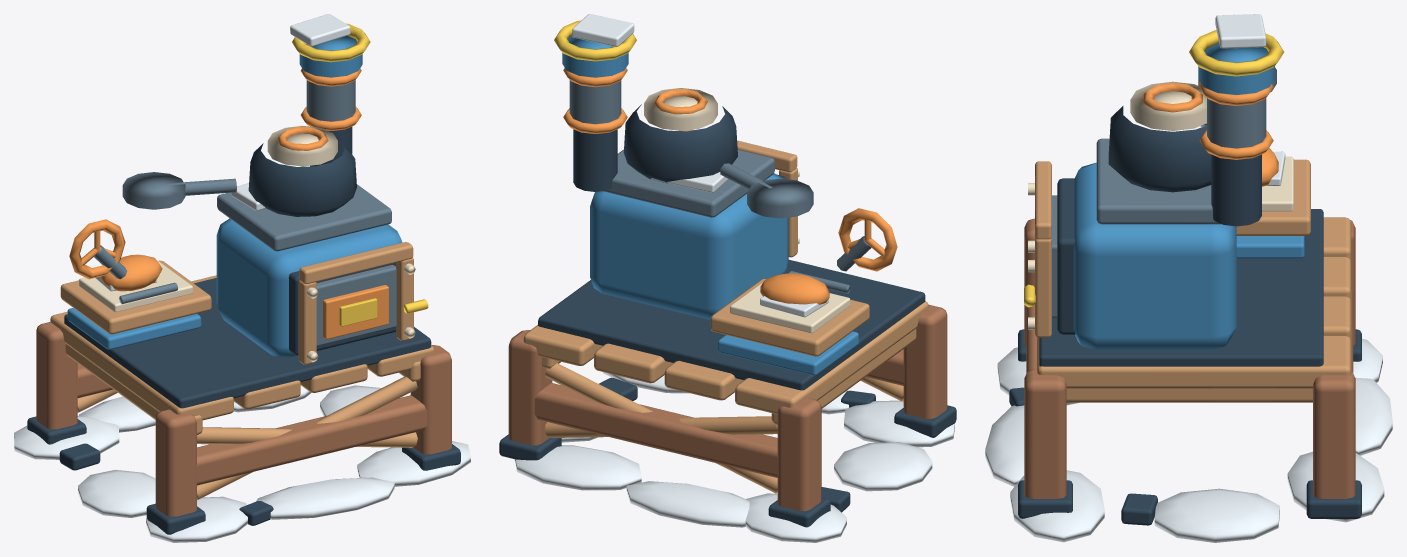
The model's file is cooker_processor.glb.
3 views of the same model, side by side, from view 1: azimuth 30°, elevation 25°; view 2: azimuth 150°, elevation 25°; view 3: azimuth 270°, elevation 25° (orthographic). The views are drawn at different scales.
Visible parts, largest first — view 1: cooker_processor; view 2: cooker_processor; view 3: cooker_processor.
Boxes of the visible parts, x1,y1,x2,y2 form: cooker_processor: (14, 14, 470, 542); cooker_processor: (499, 14, 956, 542); cooker_processor: (985, 14, 1392, 542).
Bounding box in the file's own units: 2.28 × 2.51 × 1.92.
